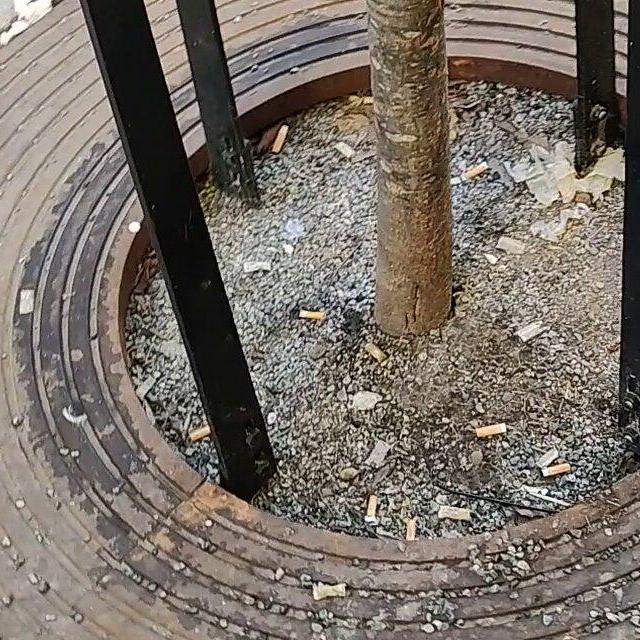Cigarette Butt: (460, 162, 492, 186), (270, 123, 289, 159), (403, 511, 421, 548), (539, 462, 574, 479), (294, 304, 330, 320), (362, 341, 386, 363), (475, 425, 509, 440), (365, 495, 376, 528), (192, 426, 211, 441)
